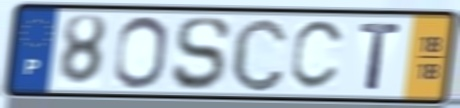8: (56, 13, 110, 91)
C: (228, 15, 290, 95), (288, 18, 349, 93)
O: (111, 14, 170, 91)
S: (170, 14, 233, 92)
T: (357, 21, 405, 93)
